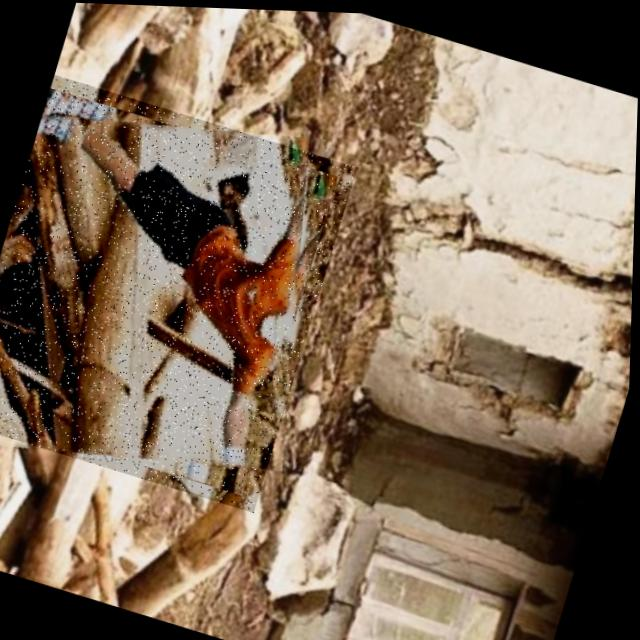Person in Rubble: (0, 72, 358, 512)
